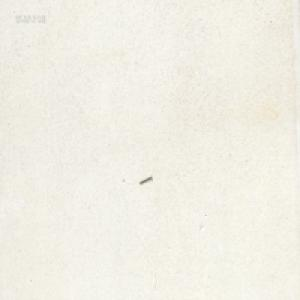Bolt: (138, 174, 152, 185)
